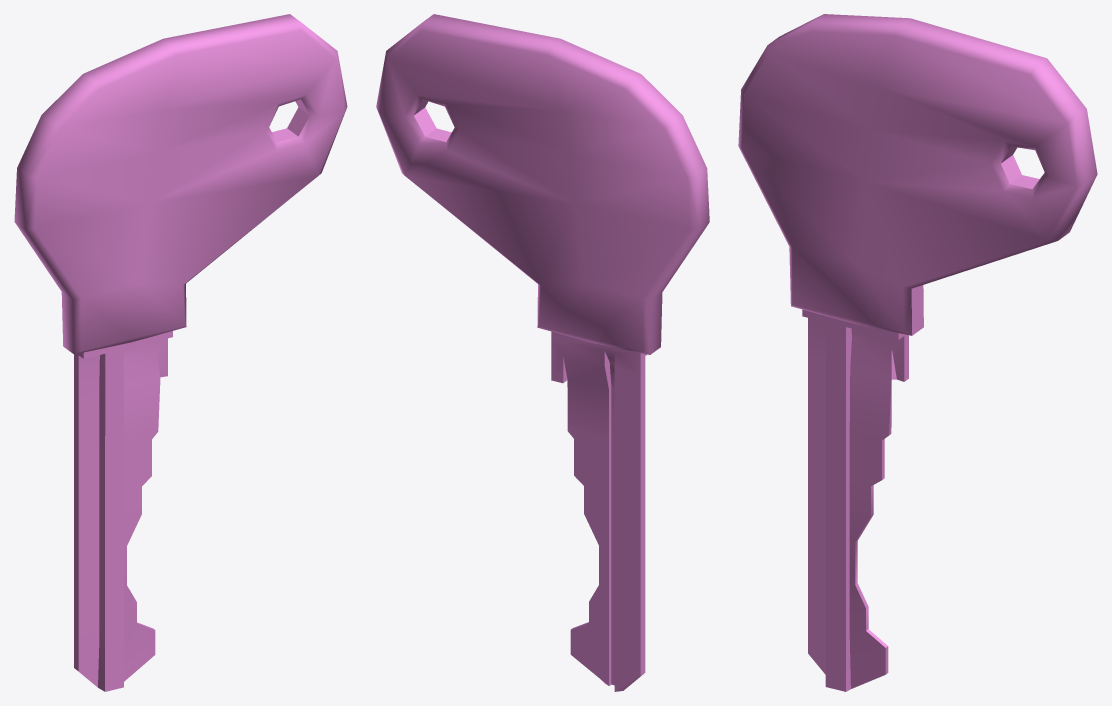
Rendered from Keys_29.FBX.
The picture shows the model from 3 angles, left to right: view 1: azimuth 30°, elevation 25°; view 2: azimuth 150°, elevation 25°; view 3: azimuth 330°, elevation 25°; orthographic projection. The views are drawn at different scales.
Parts seen in each view (by area): view 1: Keys_29; view 2: Keys_29; view 3: Keys_29.
Boxes of the visible parts, <box> form: Keys_29: <box>14,14,347,691</box>; Keys_29: <box>376,14,709,691</box>; Keys_29: <box>738,14,1097,691</box>.
Bounding box in the file's own units: 1.3 × 2.43 × 0.1158.
